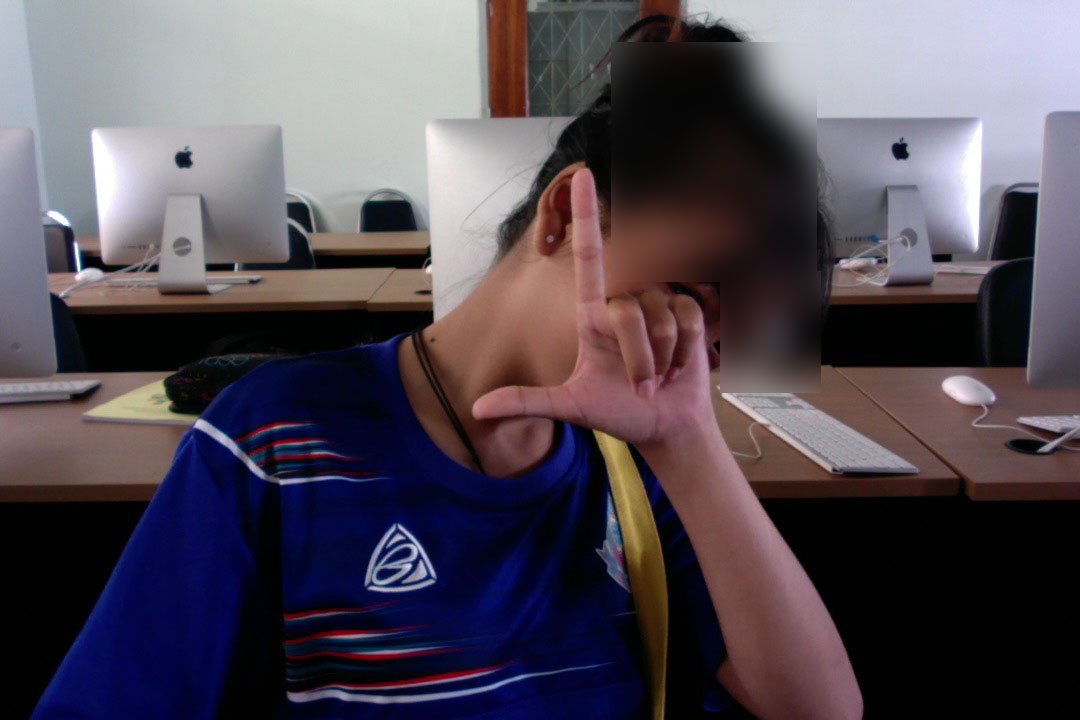lor: (468, 158, 761, 487)
